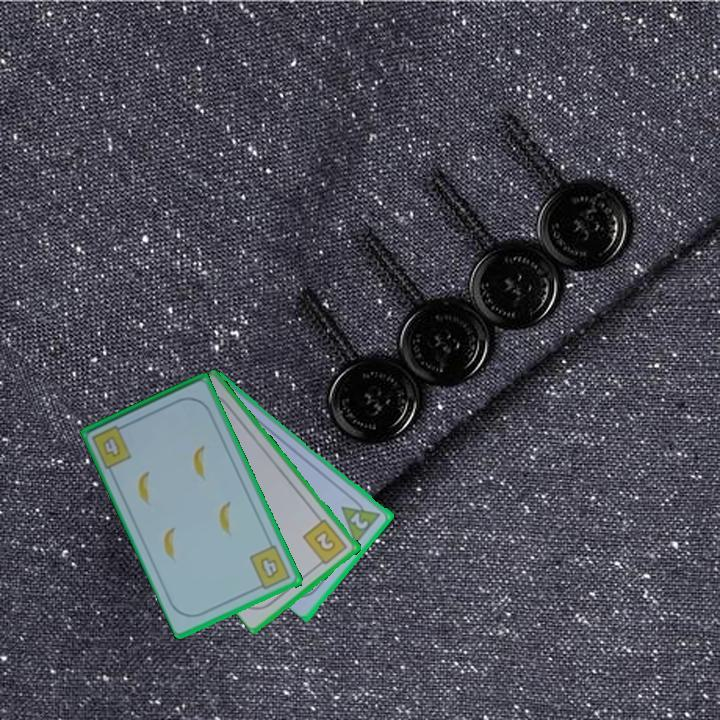2b: (300, 516, 350, 570)
2p: (347, 509, 372, 532)
4b: (246, 542, 294, 593), (88, 420, 135, 471)
